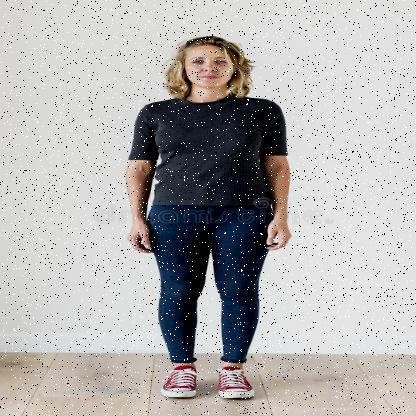sem_capacete: (160, 35, 256, 98)
sem_colete_refletivo: (122, 92, 290, 206)
